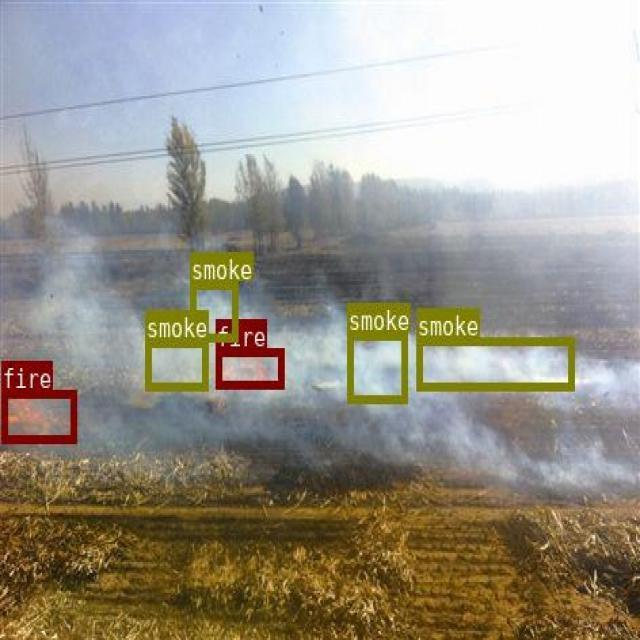fire: (1, 388, 75, 442), (215, 348, 282, 388)
smoke: (415, 337, 573, 389), (347, 332, 405, 402), (145, 337, 207, 389), (189, 281, 237, 341)
